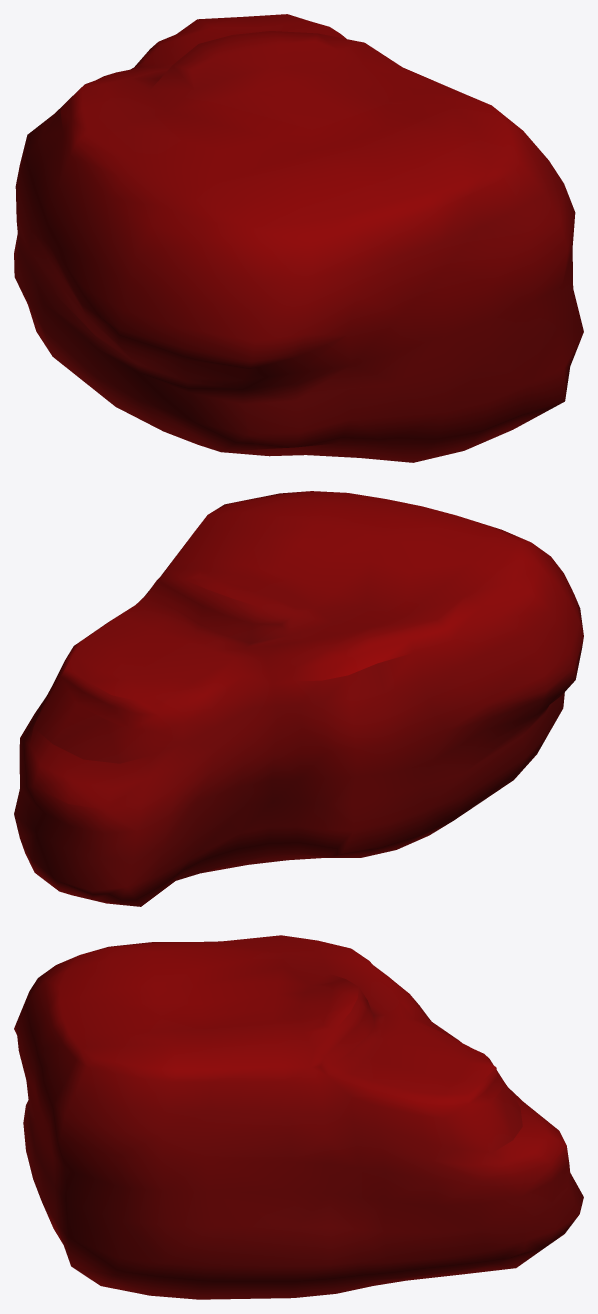
The model's file is geology-rocks-rockmedium_v4.fbx.
The picture shows the model from 3 angles, top to bottom: view 1: azimuth 30°, elevation 25°; view 2: azimuth 150°, elevation 25°; view 3: azimuth 270°, elevation 25°; orthographic projection. The views are drawn at different scales.
Parts seen in each view (by area): view 1: RockMedium_v4; view 2: RockMedium_v4; view 3: RockMedium_v4.
Boxes of the visible parts, x1=… form: RockMedium_v4: x1=14, y1=14, x2=583, y2=462; RockMedium_v4: x1=14, y1=491, x2=583, y2=906; RockMedium_v4: x1=14, y1=935, x2=583, y2=1299.
Bounding box in the file's own units: 3.54 × 2.31 × 4.71.
